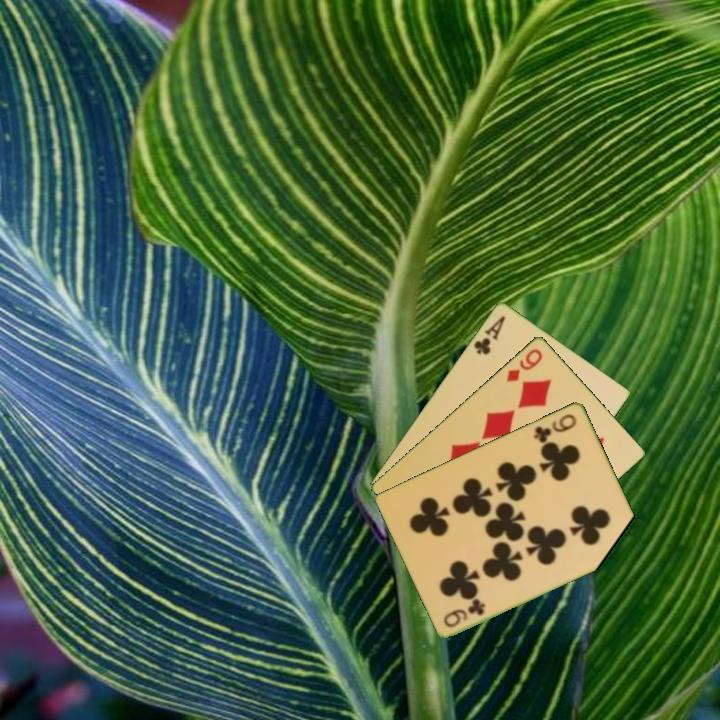9c: (531, 410, 580, 445), (440, 596, 488, 630)
9d: (503, 345, 546, 385)
Ac: (470, 312, 508, 357)
